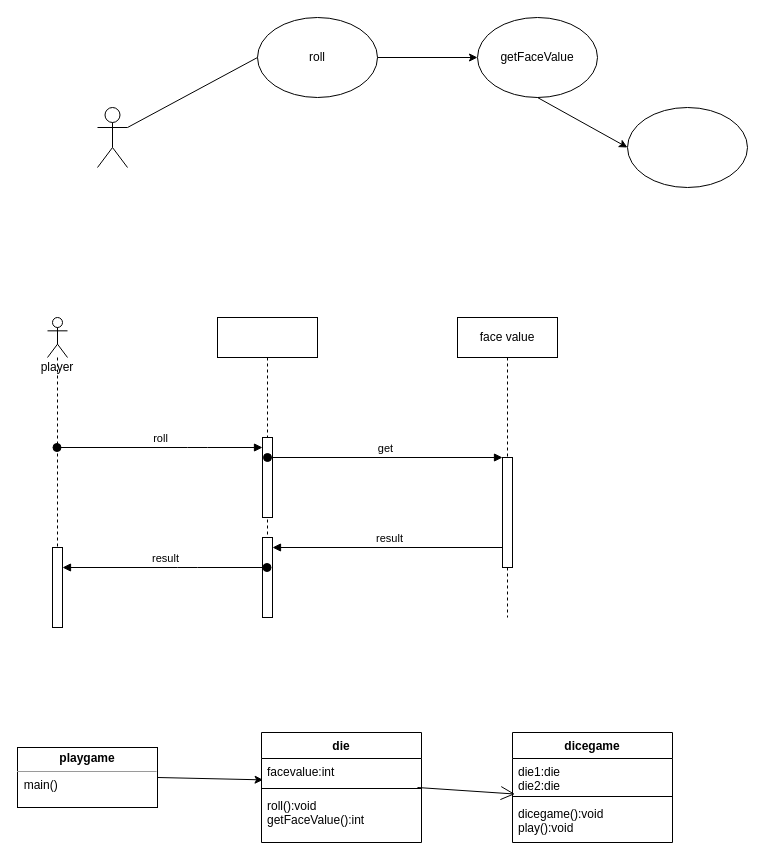
Image size: 765x863. Some labels were removed from this diagram. The box of each missing label's shape, as (x1, y1, x2, y2) in pixels:
Actor: (96, 106, 128, 168)
dice: (216, 316, 318, 618)
game result: (626, 106, 748, 188)
